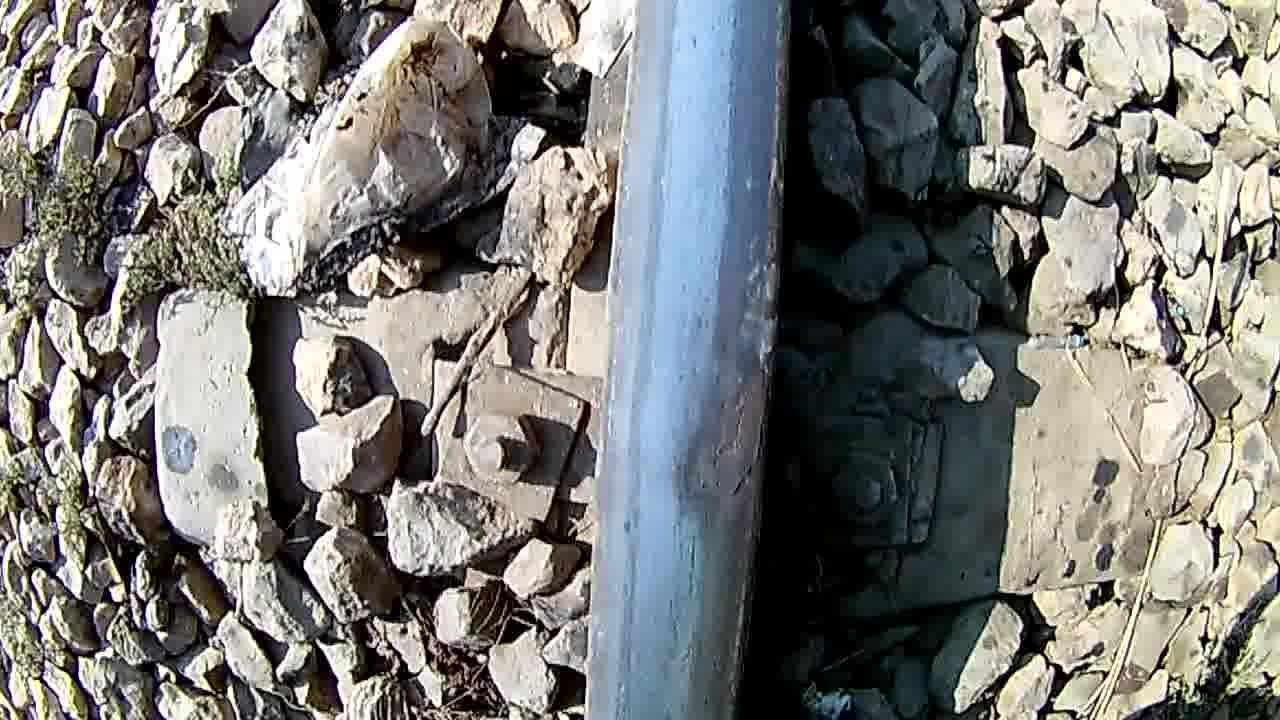crack: (612, 2, 786, 376), (618, 385, 772, 577)
